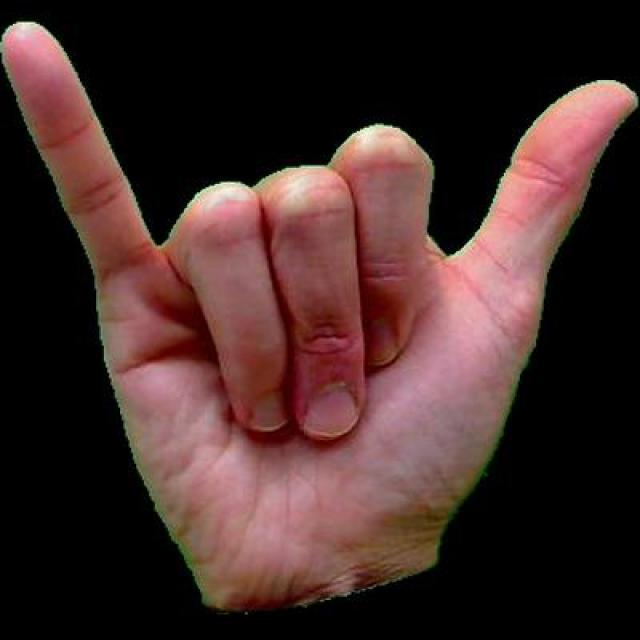y: (0, 0, 637, 624)
